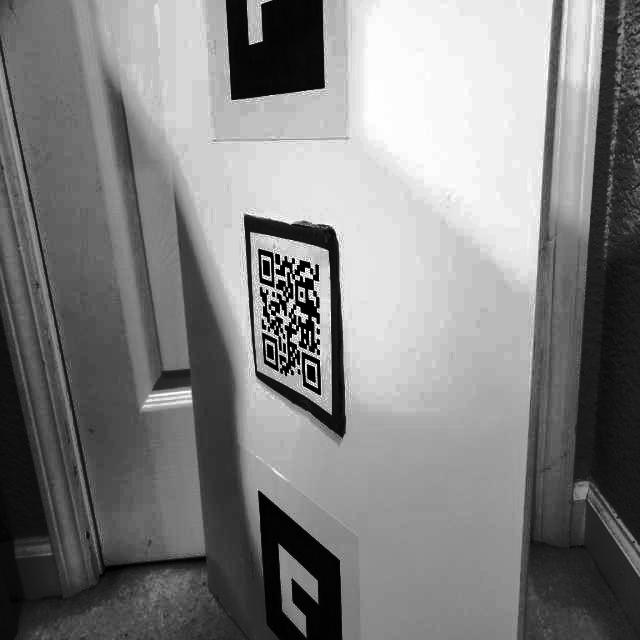qr_code: (251, 239, 334, 404)
